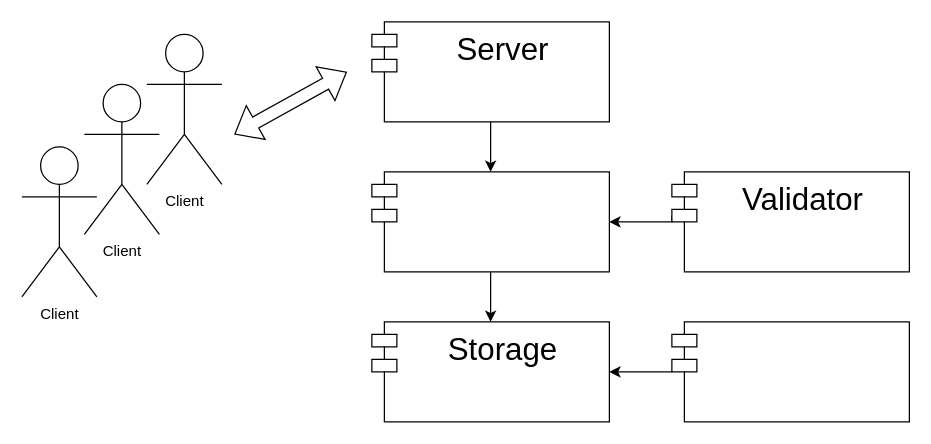
The diagram is 931 pixels wide and 444 high, and some of its shapes have lost their labels. Here are the shapes that lost their labels. From the top down, the centre of each, then its label:
(x=490, y=221): Logic
(x=790, y=371): Storery
